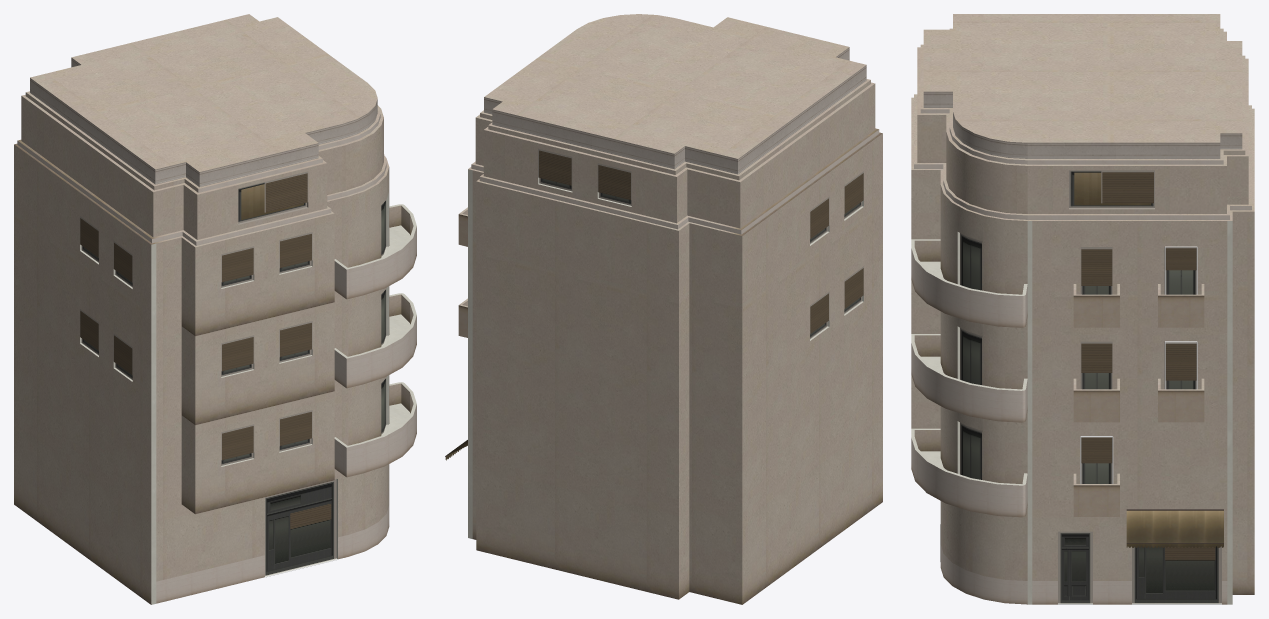
The model's file is monaco-building-v1.glb.
3 renders of one model, left to right at view 1: azimuth 30°, elevation 25°; view 2: azimuth 150°, elevation 25°; view 3: azimuth 270°, elevation 25°, orthographic. The views are drawn at different scales.
Visible parts, largest first — view 1: Modular modernist eclectic building-material4-lod0, Modular modernist eclectic building-material0-lod0, Modular modernist eclectic building-material9-lod0, Modular modernist eclectic building-material5-lod0, Modular modernist eclectic building-material15-lod0, Modular modernist eclectic building-material7-lod0, Modular modernist eclectic building-material13-lod0, Modular modernist eclectic building-material10-lod0, Modular modernist eclectic building-material3-lod0, Modular modernist eclectic building-material12-lod0, Modular modernist eclectic building-material14-lod0; view 2: Modular modernist eclectic building-material4-lod0, Modular modernist eclectic building-material7-lod0, Modular modernist eclectic building-material9-lod0, Modular modernist eclectic building-material5-lod0, Modular modernist eclectic building-material0-lod0, Modular modernist eclectic building-material13-lod0, Modular modernist eclectic building-material10-lod0, Modular modernist eclectic building-material2-lod0; view 3: Modular modernist eclectic building-material4-lod0, Modular modernist eclectic building-material0-lod0, Modular modernist eclectic building-material2-lod0, Modular modernist eclectic building-material5-lod0, Modular modernist eclectic building-material9-lod0, Modular modernist eclectic building-material3-lod0, Modular modernist eclectic building-material7-lod0, Modular modernist eclectic building-material15-lod0, Modular modernist eclectic building-material12-lod0, Modular modernist eclectic building-material16-lod0, Modular modernist eclectic building-material8-lod0, Modular modernist eclectic building-material10-lod0 (+1 smaller).
Boxes of the visible parts, box(x1,y1,x2,y2) form: Modular modernist eclectic building-material4-lod0: box(14, 14, 413, 604); Modular modernist eclectic building-material0-lod0: box(17, 114, 416, 603); Modular modernist eclectic building-material9-lod0: box(80, 173, 311, 460); Modular modernist eclectic building-material5-lod0: box(80, 193, 416, 604); Modular modernist eclectic building-material15-lod0: box(265, 479, 336, 575); Modular modernist eclectic building-material7-lod0: box(30, 57, 377, 187); Modular modernist eclectic building-material13-lod0: box(81, 246, 311, 465); Modular modernist eclectic building-material10-lod0: box(80, 171, 312, 460); Modular modernist eclectic building-material3-lod0: box(381, 200, 386, 434); Modular modernist eclectic building-material12-lod0: box(241, 184, 303, 219); Modular modernist eclectic building-material14-lod0: box(238, 182, 308, 224); Modular modernist eclectic building-material4-lod0: box(459, 14, 882, 604); Modular modernist eclectic building-material7-lod0: box(484, 47, 866, 174); Modular modernist eclectic building-material9-lod0: box(539, 150, 863, 333); Modular modernist eclectic building-material5-lod0: box(468, 169, 863, 538); Modular modernist eclectic building-material0-lod0: box(471, 130, 879, 234); Modular modernist eclectic building-material13-lod0: box(539, 178, 861, 338); Modular modernist eclectic building-material10-lod0: box(538, 148, 863, 333); Modular modernist eclectic building-material2-lod0: box(458, 214, 467, 337); Modular modernist eclectic building-material4-lod0: box(911, 14, 1254, 594); Modular modernist eclectic building-material0-lod0: box(911, 109, 1251, 604); Modular modernist eclectic building-material2-lod0: box(1073, 295, 1204, 516); Modular modernist eclectic building-material5-lod0: box(911, 221, 1232, 604); Modular modernist eclectic building-material9-lod0: box(1081, 172, 1196, 463); Modular modernist eclectic building-material3-lod0: box(960, 233, 1196, 483); Modular modernist eclectic building-material7-lod0: box(923, 91, 1242, 158); Modular modernist eclectic building-material15-lod0: box(1132, 546, 1221, 603); Modular modernist eclectic building-material12-lod0: box(1074, 172, 1223, 547); Modular modernist eclectic building-material16-lod0: box(1058, 531, 1092, 603); Modular modernist eclectic building-material8-lod0: box(940, 246, 1221, 604); Modular modernist eclectic building-material10-lod0: box(1080, 170, 1196, 437).
Size of what is drawn, in the model's own units: 0.7176 by 1 by 0.6805.
17 materials, 14 textured.
